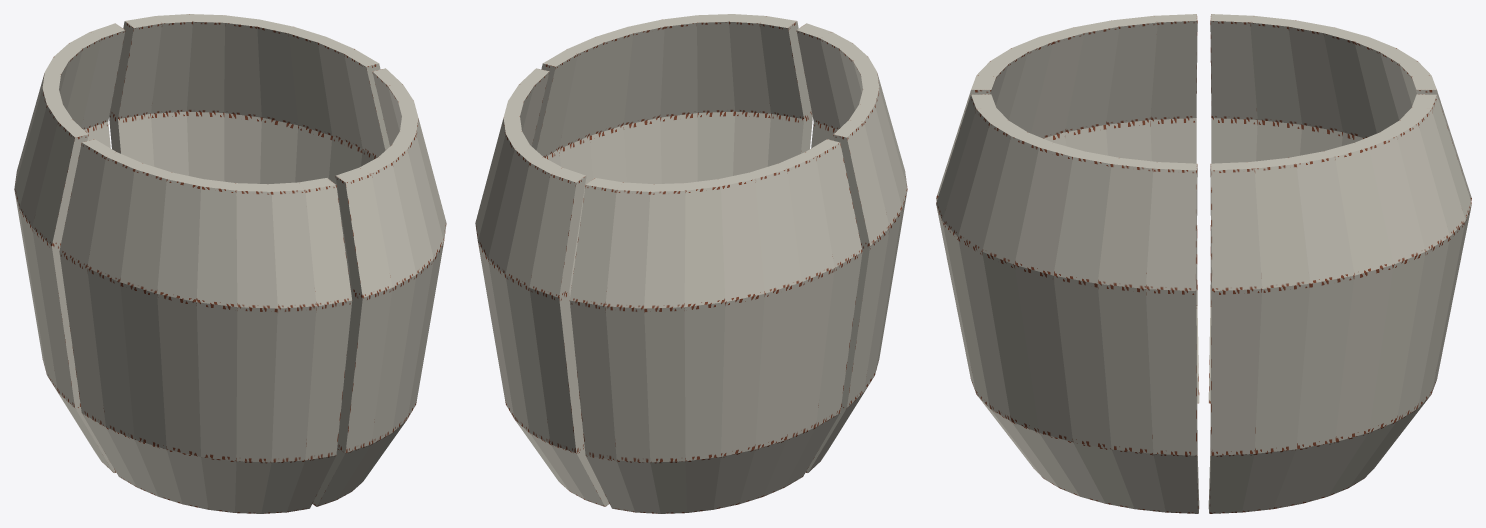
The model's file is PressureRunner_Elite_TriplePressure_FragmentAssets.fbx.
3 views of the same model, side by side, from view 1: azimuth 30°, elevation 25°; view 2: azimuth 150°, elevation 25°; view 3: azimuth 270°, elevation 25° (orthographic). The views are drawn at different scales.
Visible parts, largest first — view 1: SM_PressureRunner_Elite_TriplePressure_Fragment_2, SM_PressureRunner_Elite_TriplePressure_Fragment_0, SM_PressureRunner_Elite_TriplePressure_Fragment_3, SM_PressureRunner_Elite_TriplePressure_Fragment_1; view 2: SM_PressureRunner_Elite_TriplePressure_Fragment_1, SM_PressureRunner_Elite_TriplePressure_Fragment_3, SM_PressureRunner_Elite_TriplePressure_Fragment_0, SM_PressureRunner_Elite_TriplePressure_Fragment_2; view 3: SM_PressureRunner_Elite_TriplePressure_Fragment_0, SM_PressureRunner_Elite_TriplePressure_Fragment_3, SM_PressureRunner_Elite_TriplePressure_Fragment_1, SM_PressureRunner_Elite_TriplePressure_Fragment_2.
Boxes of the visible parts, x1=… form: SM_PressureRunner_Elite_TriplePressure_Fragment_2: x1=59, y1=139, x2=352, y2=513; SM_PressureRunner_Elite_TriplePressure_Fragment_0: x1=109, y1=14, x2=389, y2=296; SM_PressureRunner_Elite_TriplePressure_Fragment_3: x1=312, y1=68, x2=446, y2=506; SM_PressureRunner_Elite_TriplePressure_Fragment_1: x1=14, y1=23, x2=125, y2=472; SM_PressureRunner_Elite_TriplePressure_Fragment_1: x1=569, y1=139, x2=862, y2=513; SM_PressureRunner_Elite_TriplePressure_Fragment_3: x1=532, y1=14, x2=812, y2=296; SM_PressureRunner_Elite_TriplePressure_Fragment_0: x1=475, y1=68, x2=609, y2=506; SM_PressureRunner_Elite_TriplePressure_Fragment_2: x1=796, y1=23, x2=907, y2=472; SM_PressureRunner_Elite_TriplePressure_Fragment_0: x1=1208, y1=94, x2=1471, y2=513; SM_PressureRunner_Elite_TriplePressure_Fragment_3: x1=936, y1=94, x2=1199, y2=513; SM_PressureRunner_Elite_TriplePressure_Fragment_1: x1=1208, y1=14, x2=1471, y2=403; SM_PressureRunner_Elite_TriplePressure_Fragment_2: x1=936, y1=14, x2=1199, y2=403.
Size of the model in its own units: 92.6 by 87.09 by 117.
